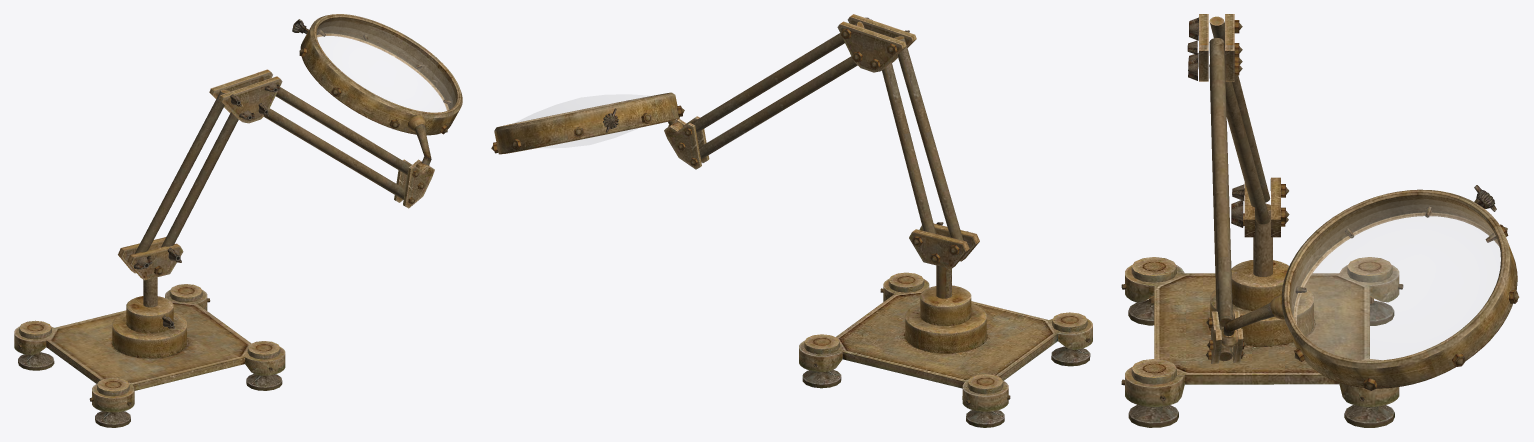
File: Magnifying_glass.fbx
The picture shows the model from 3 angles, left to right: view 1: azimuth 30°, elevation 25°; view 2: azimuth 150°, elevation 25°; view 3: azimuth 270°, elevation 25°; orthographic projection. The views are drawn at different scales.
Parts seen in each view (by area): view 1: Magnifying_glass; view 2: Magnifying_glass; view 3: Magnifying_glass.
Boxes of the visible parts, <box> form: Magnifying_glass: <box>14,14,462,427</box>; Magnifying_glass: <box>491,14,1092,427</box>; Magnifying_glass: <box>1121,14,1519,427</box>.
Bounding box in the file's own units: 73.71 × 44.58 × 40.78.
Materials: 2 (1 with a texture image).
